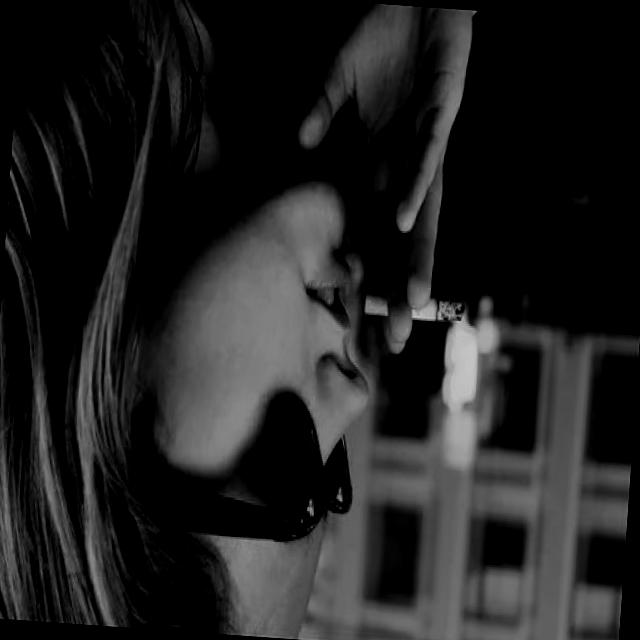smoke: (357, 288, 469, 334)
